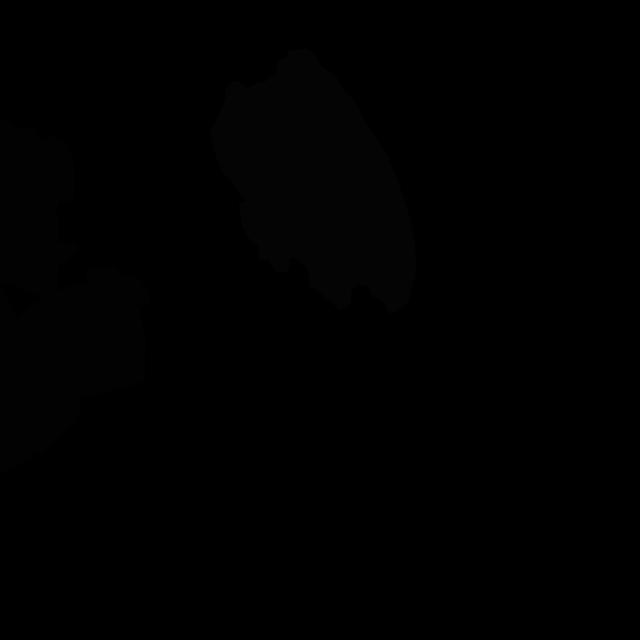cardboard: (0, 284, 94, 476), (0, 118, 80, 295), (78, 266, 150, 399), (0, 283, 39, 387)
soft_plastic: (210, 48, 416, 314)
